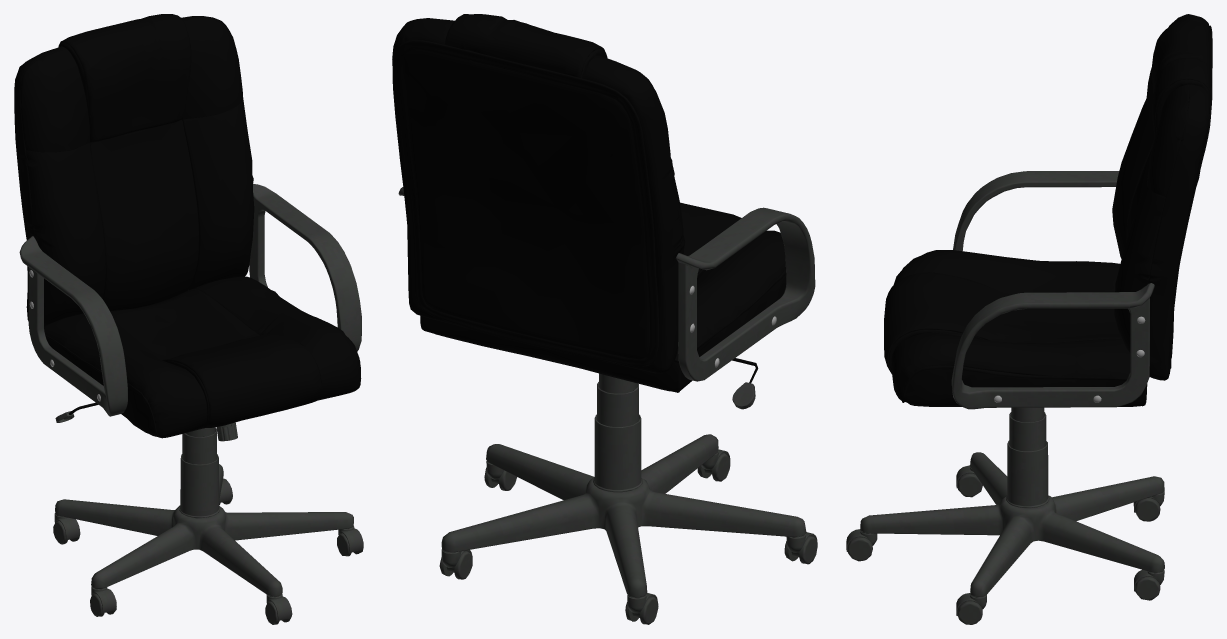
The model's file is chair.glb.
The picture shows the model from 3 angles, left to right: view 1: azimuth 30°, elevation 25°; view 2: azimuth 150°, elevation 25°; view 3: azimuth 270°, elevation 25°; orthographic projection. The views are drawn at different scales.
Parts seen in each view (by area): view 1: opaque__fabric__polyester_gray_glossy_standard_a, opaque__plastic__grainy_standard_a; view 2: opaque__fabric__polyester_gray_glossy_standard_a, opaque__plastic__grainy_standard_a; view 3: opaque__fabric__polyester_gray_glossy_standard_a, opaque__plastic__grainy_standard_a.
Part boxes in pixels (<box>): opaque__fabric__polyester_gray_glossy_standard_a: <box>14,14,361,438</box>; opaque__plastic__grainy_standard_a: <box>19,184,363,624</box>; opaque__fabric__polyester_gray_glossy_standard_a: <box>392,14,786,392</box>; opaque__plastic__grainy_standard_a: <box>398,187,817,624</box>; opaque__fabric__polyester_gray_glossy_standard_a: <box>884,14,1212,406</box>; opaque__plastic__grainy_standard_a: <box>846,171,1164,624</box>.
Size of the model in its own units: 0.6219 by 1.09 by 0.7059.
Materials: 5 (3 with a texture image).
